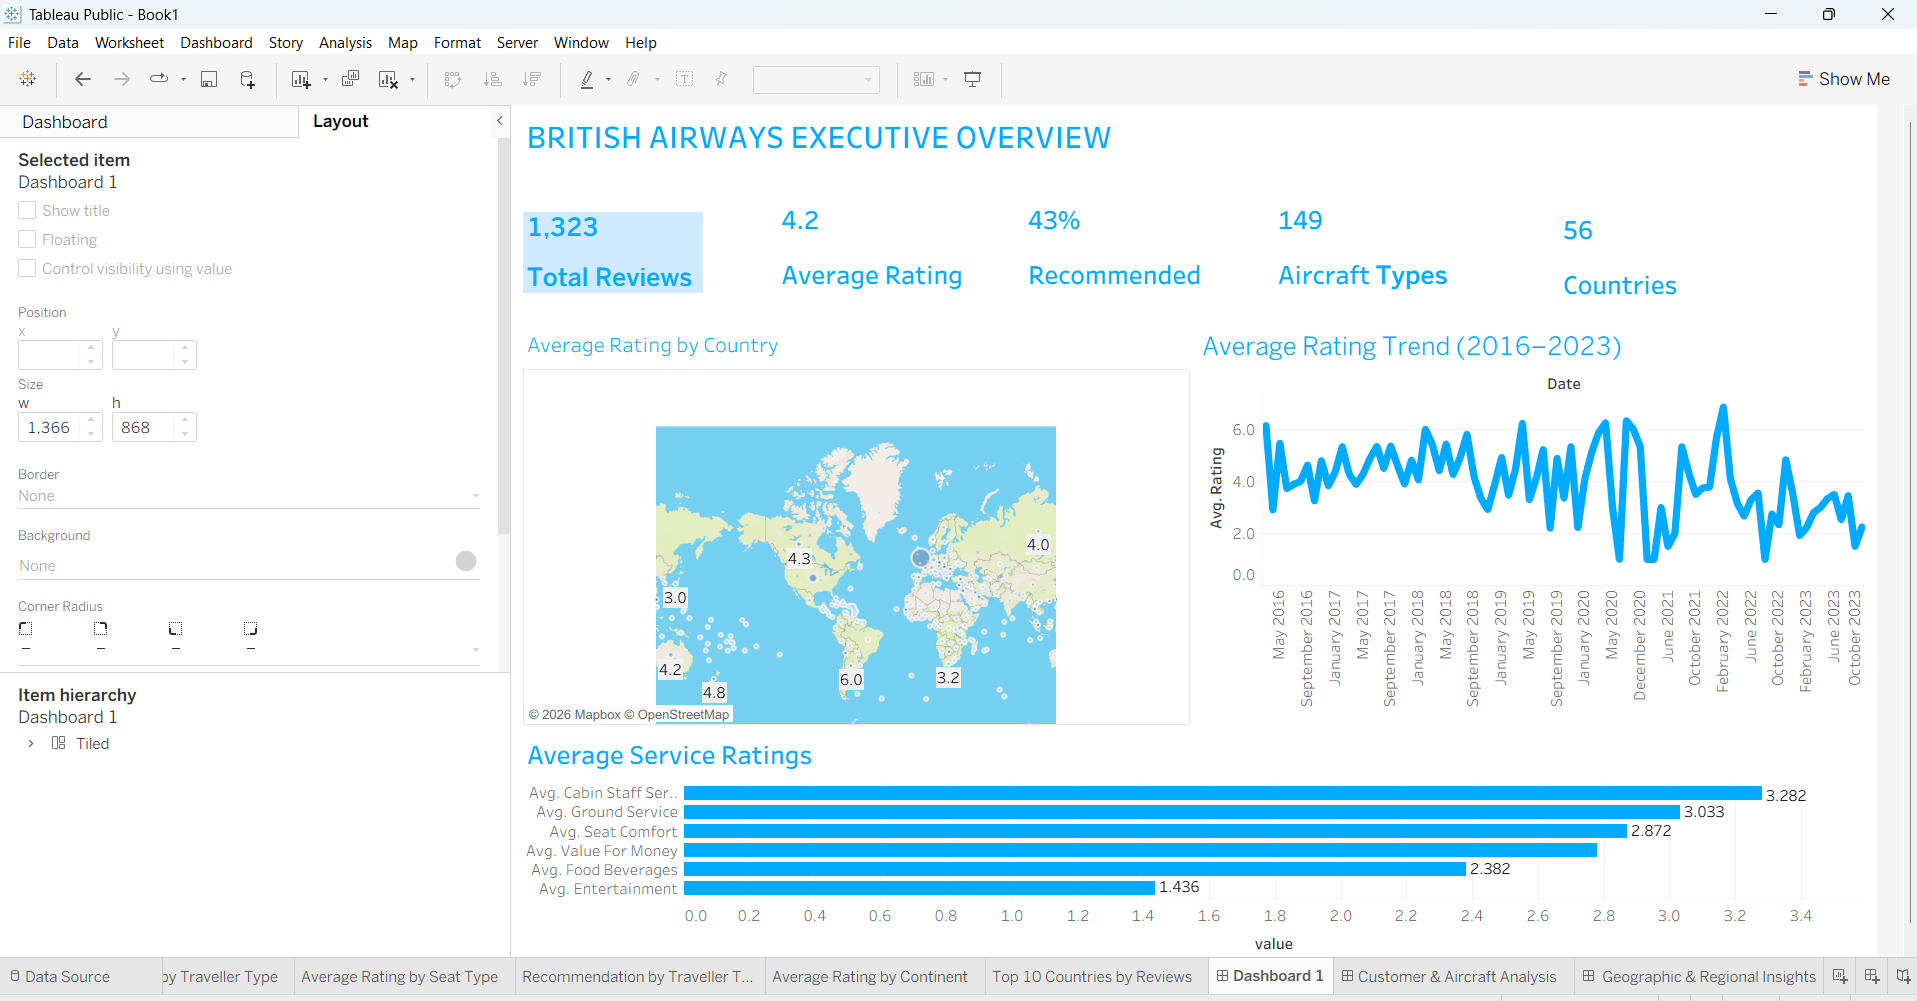

Layout of this report page (visuals, bound fields, positions):
{"tool":"tableau","page":{"name":"Dashboard 1","canvas":[1366,868],"ordinal":2},"visuals":[{"type":"title","box":[8,8,1350,45.3]},{"type":"worksheet","title":"Total Reviews.","mark":"Automatic","box":[8,53.3,254,163.7]},{"type":"worksheet","title":"Average Rating","mark":"Automatic","box":[262,53.3,247,163.7]},{"type":"worksheet","title":"Recommendation","mark":"Automatic","box":[509,53.3,250,163.7]},{"type":"worksheet","title":"KPI - Aircraft Count","mark":"Automatic","box":[759,53.3,285,163.7]},{"type":"worksheet","title":" Countries","mark":"Automatic","box":[1044,53.3,282,163.7]},{"type":"worksheet","title":"Average Rating by Country","mark":"Circle","box":[8,217,675,407.3]},{"type":"worksheet","title":"Monthly Rating Trend","mark":"Line","rows":["rating"],"cols":["date"],"box":[683,217,675,407.3]},{"type":"worksheet","title":"Service Ratings Comparison","mark":"Automatic","box":[8,624.3,1350,235.7]}]}

Visuals, with their boxes on the page's 1366x868 design canvas (x1, y1, x2, y2). These are canvas units, not pixel positions in the 1917x1001 screenshot, which may show the page scaled, cropped or inside an application window:
title: x1=8, y1=8, x2=1358, y2=53
"Total Reviews." worksheet: x1=8, y1=53, x2=262, y2=217
"Average Rating" worksheet: x1=262, y1=53, x2=509, y2=217
"Recommendation" worksheet: x1=509, y1=53, x2=759, y2=217
"KPI - Aircraft Count" worksheet: x1=759, y1=53, x2=1044, y2=217
" Countries" worksheet: x1=1044, y1=53, x2=1326, y2=217
"Average Rating by Country" worksheet (Circle marks): x1=8, y1=217, x2=683, y2=624
"Monthly Rating Trend" worksheet (Line marks): x1=683, y1=217, x2=1358, y2=624
"Service Ratings Comparison" worksheet: x1=8, y1=624, x2=1358, y2=860
